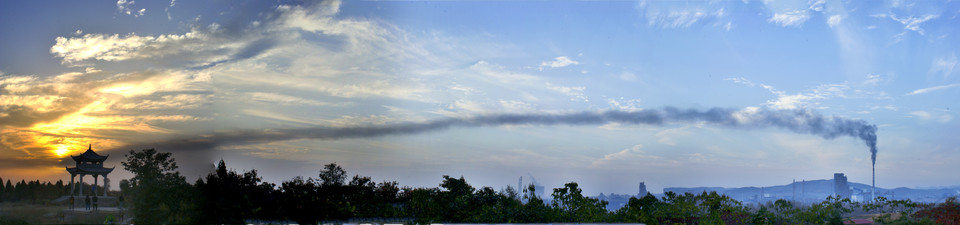dust: (801, 107, 893, 164)
